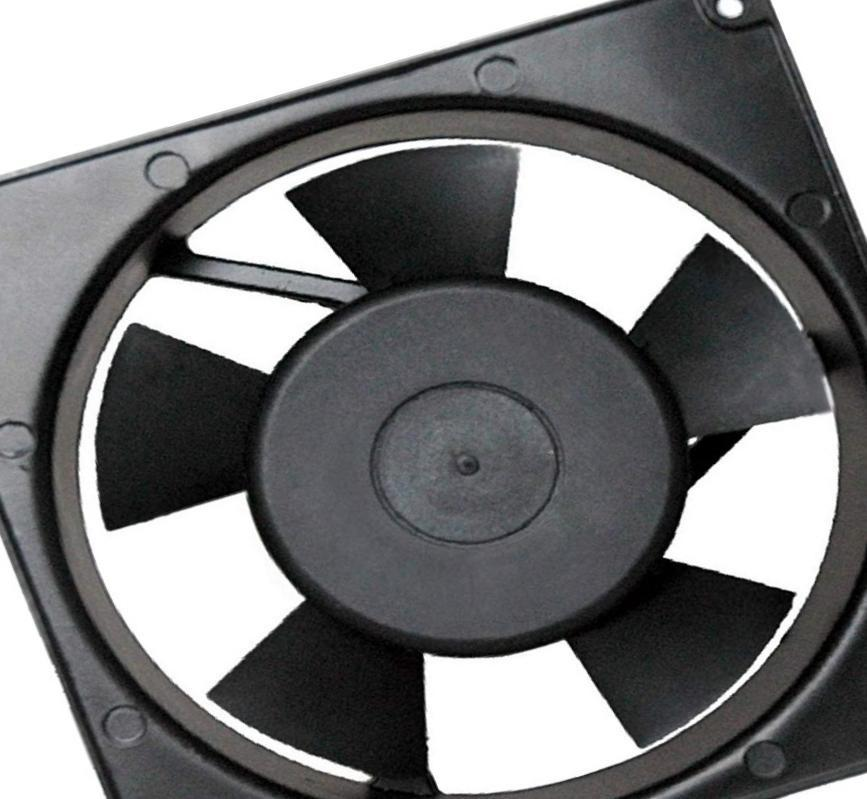fan: (0, 0, 867, 797)
